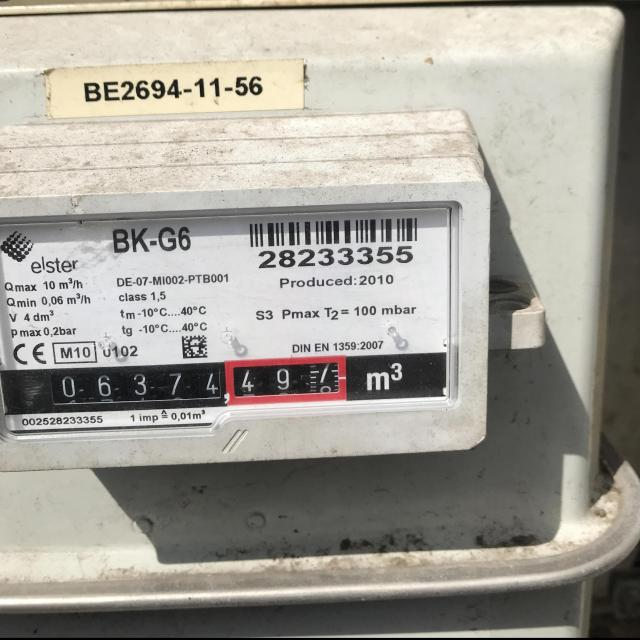gaz_meter: (0, 221, 456, 408)
indication: (47, 359, 345, 408)
